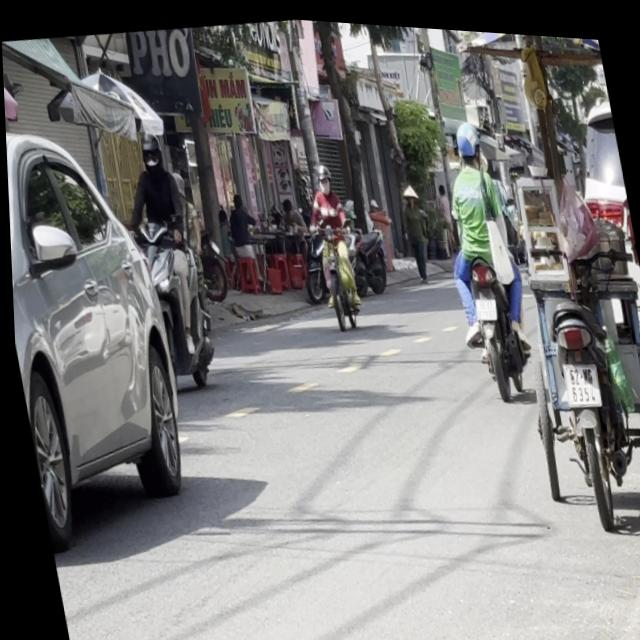helmet: (451, 119, 480, 162), (136, 128, 163, 171), (312, 157, 332, 189)
licenseplate: (421, 106, 541, 399), (113, 123, 223, 398), (293, 153, 370, 330)
nohelmet: (559, 353, 598, 401), (471, 289, 495, 314)
